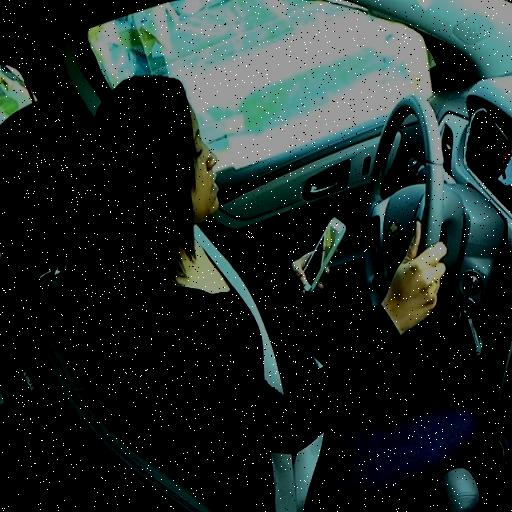texting_phone: (96, 123, 446, 419)
